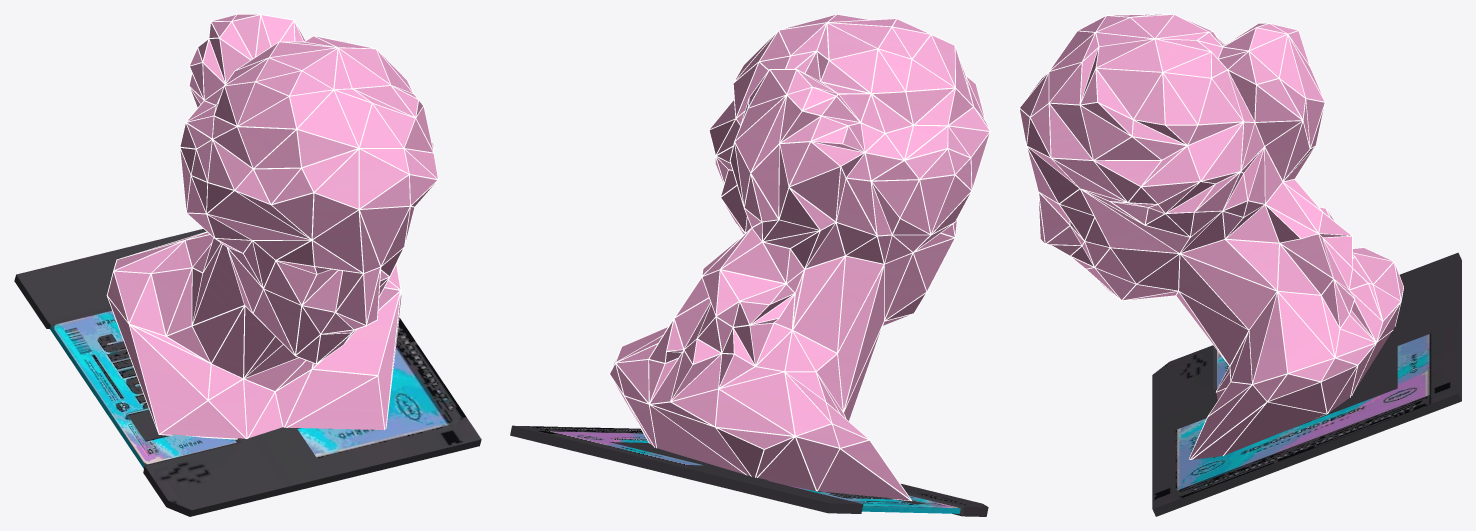
File: venus-01-floating.glb
3 views of the same model, side by side, from view 1: azimuth 30°, elevation 25°; view 2: azimuth 150°, elevation 25°; view 3: azimuth 270°, elevation 25° (orthographic). The views are drawn at different scales.
Visible parts, largest first — view 1: venus_reduced2.002, Cube.019, venus_reduced.002; view 2: venus_reduced2.002, venus_reduced.002, Cube.019; view 3: venus_reduced2.002, Cube.019, venus_reduced.002.
Part boxes in pixels (x1,y1,x2,y2): venus_reduced2.002: (107,14,437,438); Cube.019: (14,229,481,516); venus_reduced.002: (106,14,438,439); venus_reduced2.002: (610,14,989,500); venus_reduced.002: (609,14,990,501); Cube.019: (510,425,988,516); venus_reduced2.002: (1020,14,1403,459); Cube.019: (1152,252,1461,516); venus_reduced.002: (1019,14,1403,459).
Bounding box in the file's own units: 2.51 × 3.42 × 3.33.
3 materials, 3 textured.
